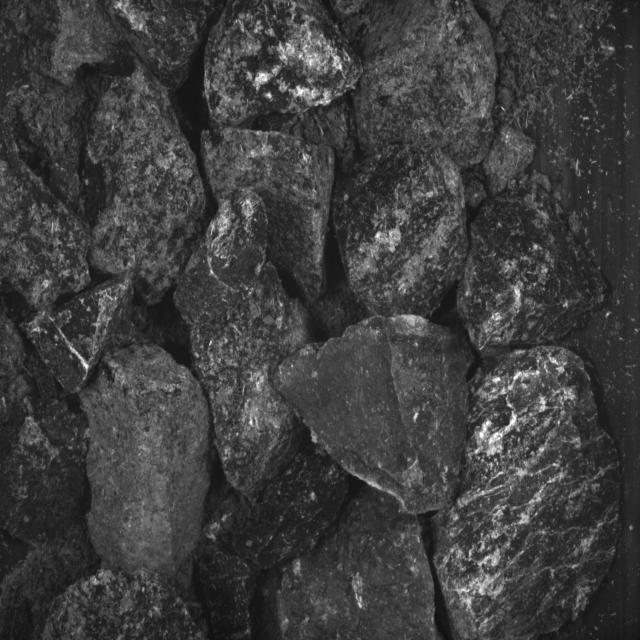Stones: (435, 347, 621, 639), (276, 316, 469, 514), (81, 346, 211, 577), (85, 66, 207, 305), (192, 264, 310, 501), (459, 181, 606, 351), (279, 488, 437, 640), (355, 1, 497, 169), (202, 129, 335, 302), (334, 147, 469, 317), (205, 1, 364, 128), (1, 126, 91, 311), (234, 444, 349, 569), (24, 272, 134, 393), (175, 189, 269, 325), (44, 571, 202, 640), (109, 1, 222, 90), (200, 545, 256, 640), (484, 126, 536, 196)
